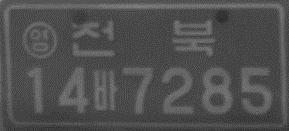1: (22, 66, 53, 116)
2: (161, 66, 193, 115)
4: (57, 67, 88, 115)
5: (240, 66, 273, 116)
7: (121, 65, 153, 114)
8: (201, 66, 233, 115)
바: (93, 69, 118, 111)
영: (21, 21, 57, 60)
전북_D: (70, 18, 216, 58)
